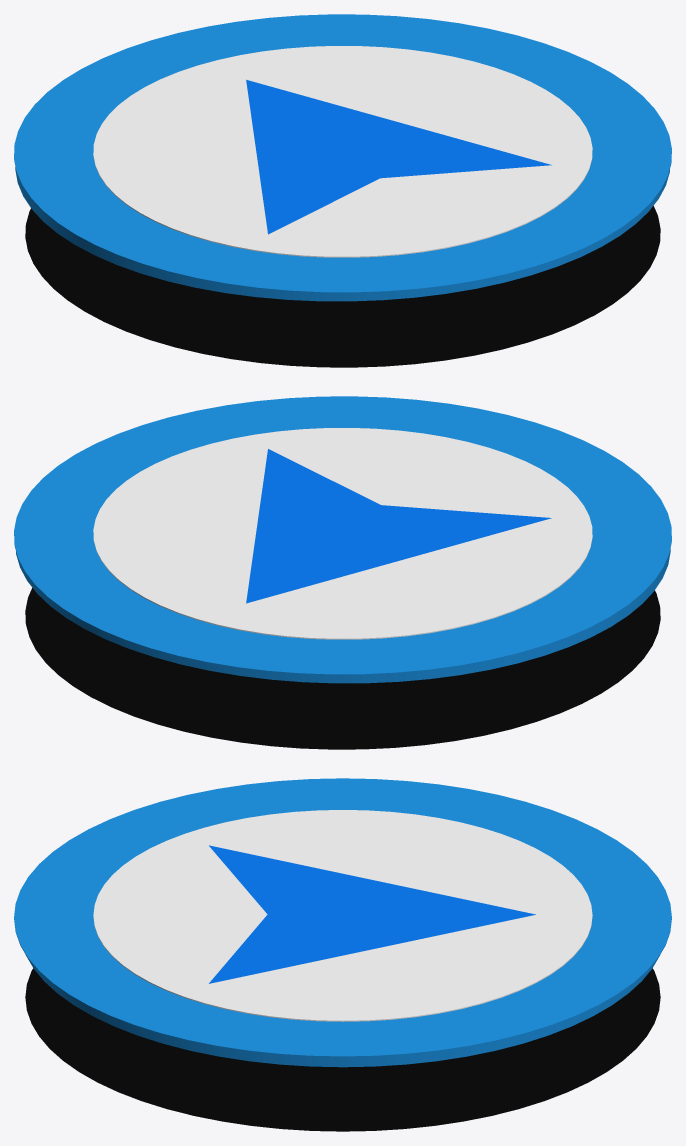
Rendered from egoCarCircleShadow2.gltf.
3 renders of one model, top to bottom at view 1: azimuth 30°, elevation 25°; view 2: azimuth 150°, elevation 25°; view 3: azimuth 270°, elevation 25°, orthographic.
Visible parts, largest first — view 1: Cylinder, CylinderExt, Circle, fleche, CylinderEpais; view 2: Cylinder, CylinderExt, Circle, fleche, CylinderEpais; view 3: Cylinder, CylinderExt, Circle, fleche, CylinderEpais.
Boxes of the visible parts, x1,y1,x2,y2 form: Cylinder: (93, 46, 592, 257); CylinderExt: (14, 14, 671, 293); Circle: (25, 206, 660, 367); fleche: (246, 79, 551, 234); CylinderEpais: (15, 167, 669, 301); Cylinder: (93, 428, 592, 639); CylinderExt: (14, 396, 671, 675); Circle: (25, 588, 660, 749); fleche: (246, 449, 551, 603); CylinderEpais: (16, 549, 670, 683); Cylinder: (93, 810, 592, 1021); CylinderExt: (14, 778, 671, 1057); Circle: (25, 968, 660, 1131); fleche: (209, 845, 535, 983); CylinderEpais: (26, 955, 659, 1067).
Size of the model in its own units: 0.58 by 0.0805 by 0.58.
